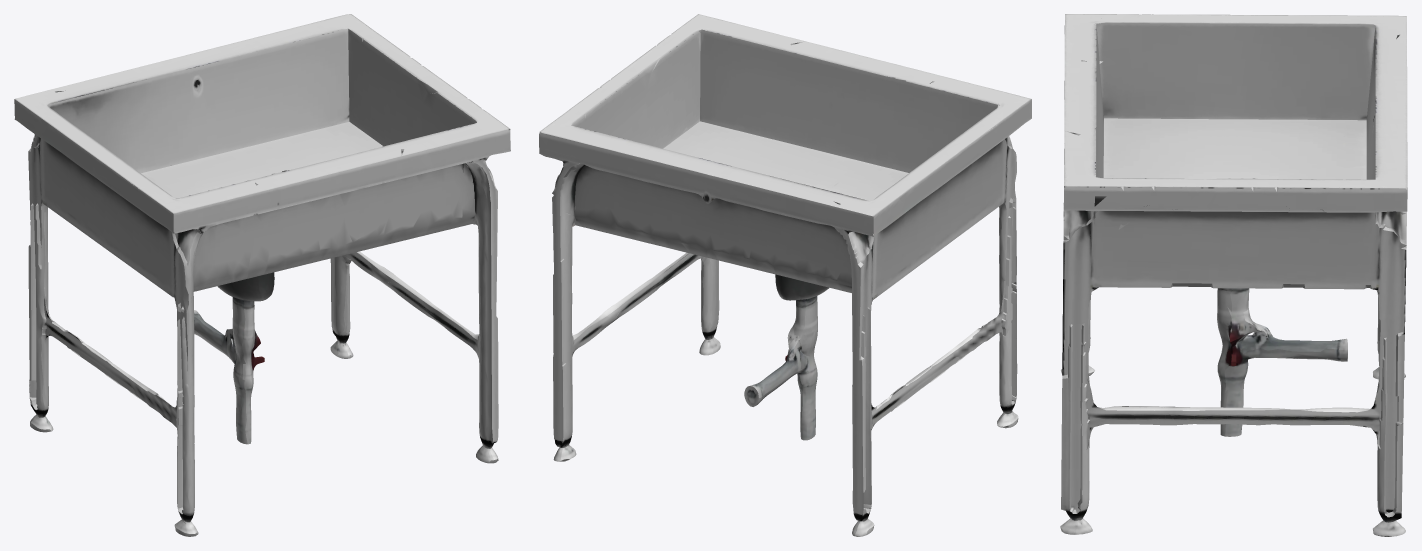
3 views of the same model, side by side, from view 1: azimuth 30°, elevation 25°; view 2: azimuth 150°, elevation 25°; view 3: azimuth 270°, elevation 25° (orthographic). The views are drawn at different scales.
Size of the model in its own units: 0.9 by 0.8499 by 0.75.
1 material, 1 textured.
